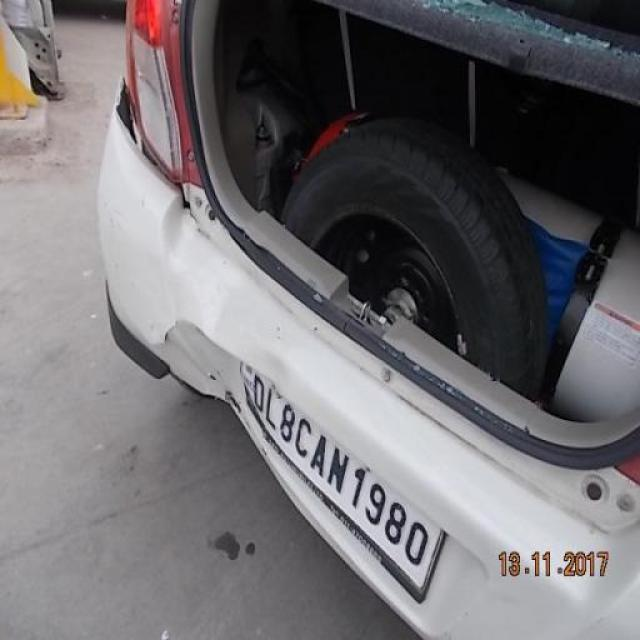dent: (155, 309, 251, 417), (258, 345, 293, 393)
misalignment: (118, 82, 201, 232)
